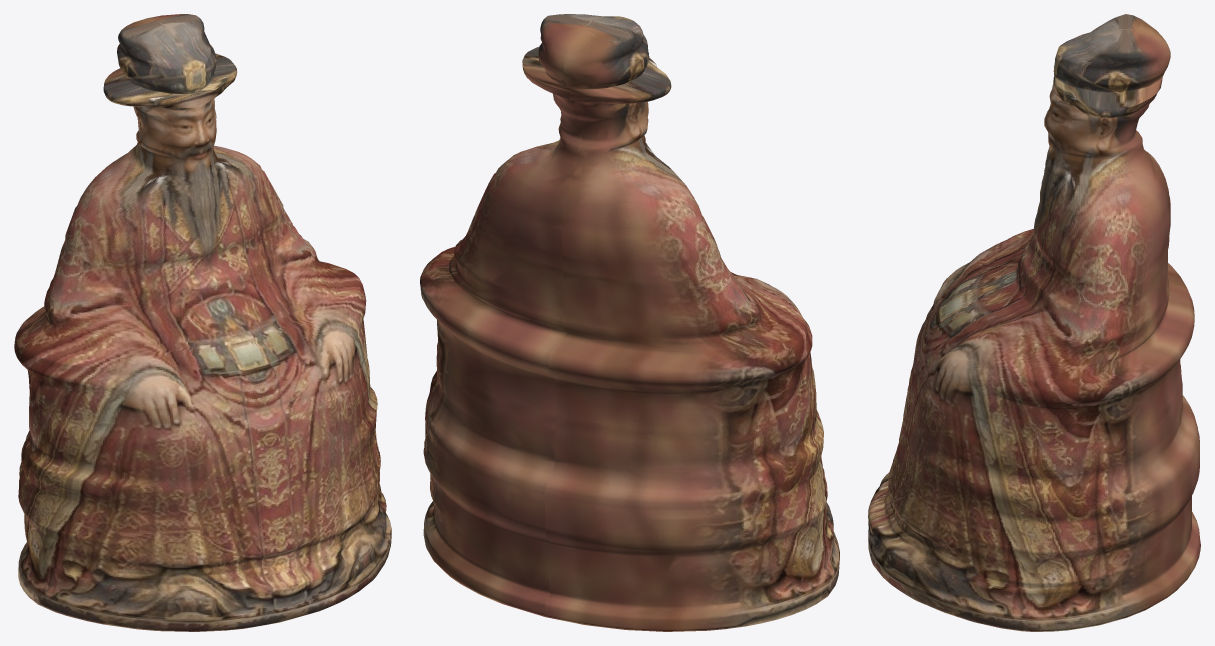
File: father.glb
The picture shows the model from 3 angles, left to right: view 1: azimuth 30°, elevation 25°; view 2: azimuth 150°, elevation 25°; view 3: azimuth 270°, elevation 25°; orthographic projection. The views are drawn at different scales.
Visible parts, largest first — view 1: father; view 2: father; view 3: father.
Part boxes in pixels (<box>): father: <box>14,14,391,631</box>; father: <box>420,14,839,631</box>; father: <box>868,14,1200,631</box>.
Size of the model in its own units: 0.7056 by 1 by 0.5819.
1 material, 1 textured.
